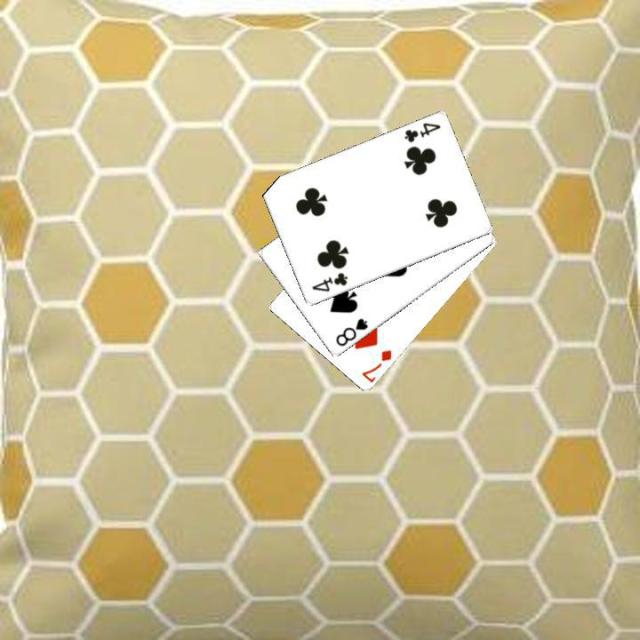4C: (400, 119, 443, 145), (308, 268, 350, 294)
7D: (357, 346, 394, 384)
8S: (332, 314, 369, 348)
